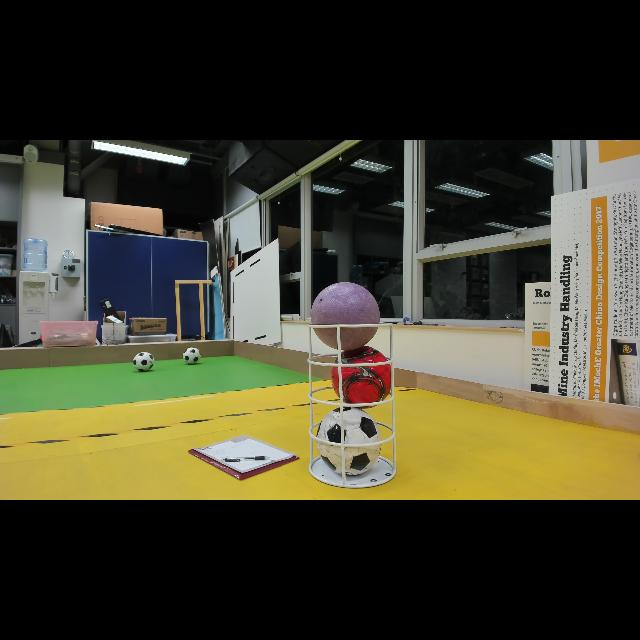P: (308, 280, 384, 350)
R: (330, 344, 394, 411)
S: (305, 321, 397, 491)
